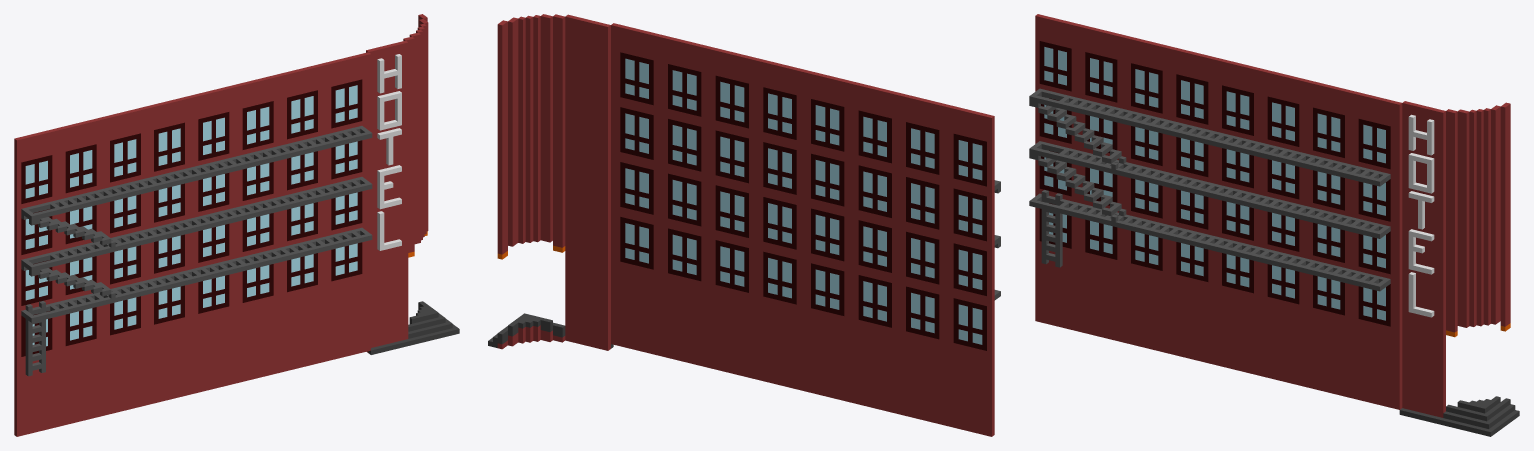
Rendered from hotel no details-2.obj.
3 renders of one model, left to right at view 1: azimuth 30°, elevation 25°; view 2: azimuth 150°, elevation 25°; view 3: azimuth 330°, elevation 25°, orthographic. The views are drawn at different scales.
Parts seen in each view (by area): view 1: hotel no details-2; view 2: hotel no details-2; view 3: hotel no details-2.
Boxes of the visible parts, x1,y1,x2,y2 form: hotel no details-2: (14, 14, 459, 436); hotel no details-2: (488, 14, 1000, 436); hotel no details-2: (1029, 14, 1519, 436).
Size of the model in its own units: 100 by 65 by 15.
